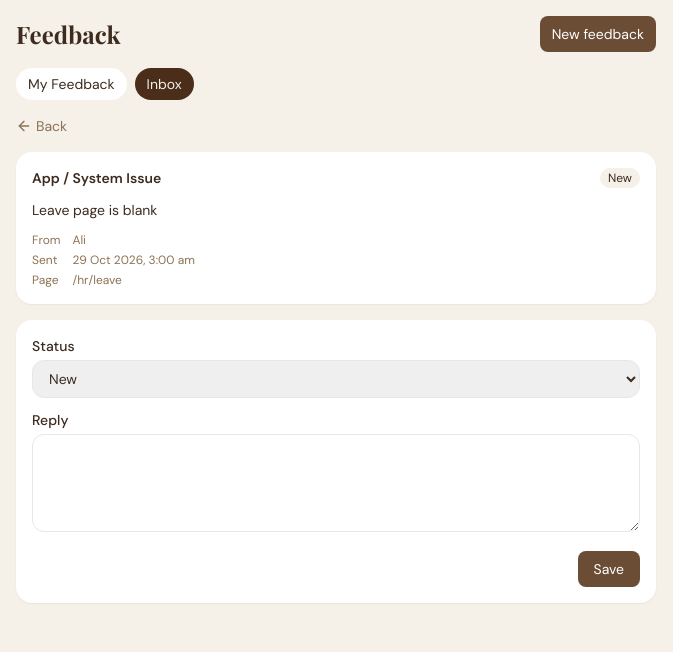
Test case: FeedbackPage › owner Save failure shows the reason, keeps the reply and stays on the detail
This screenshot has width=673, height=652.
In the text box labelled "Reply": (336,483) [32,434,640,532], type "Draft reply"
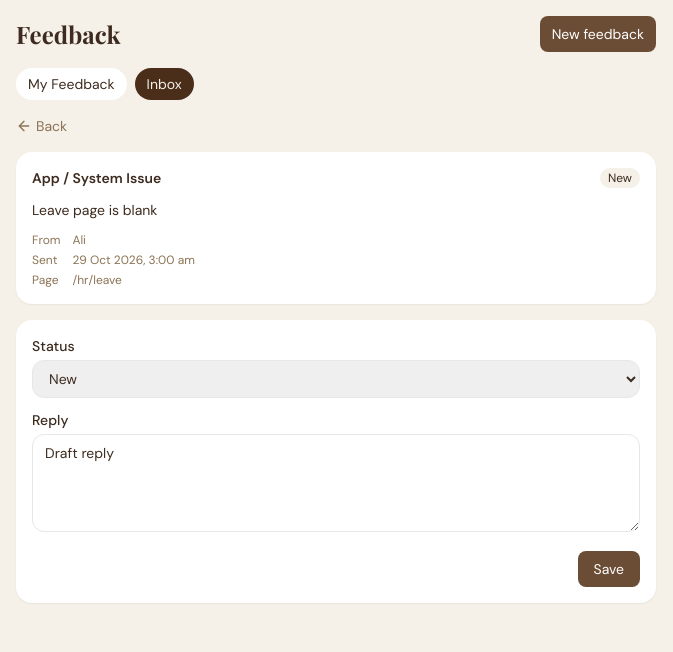
Click the button "Save": (609,569) [578,551,640,587]
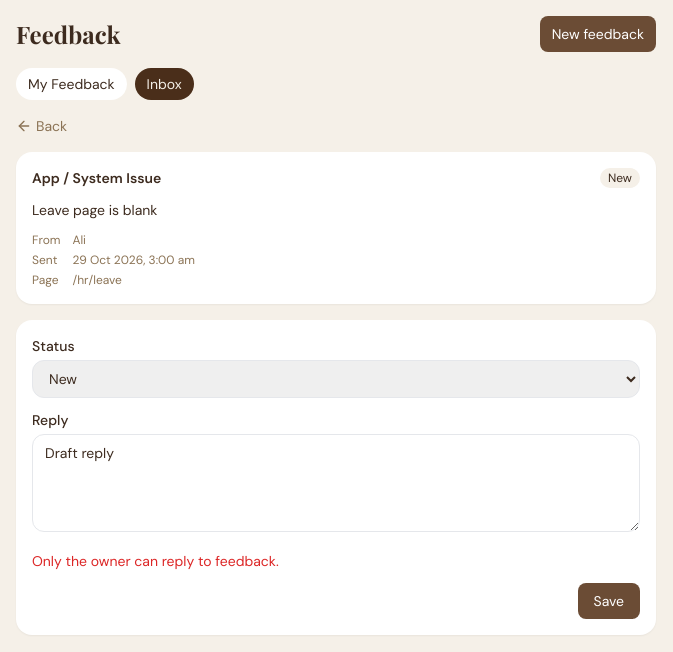
Result: the message reads "Only the owner can reply to feedback." at [32,552,279,570]
